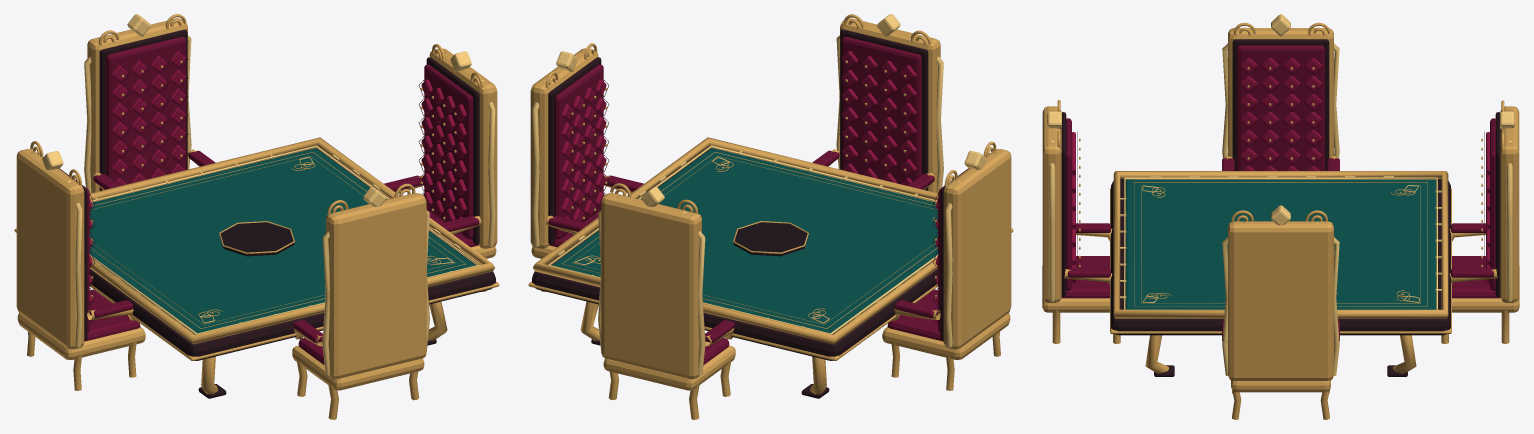
File: gala-table-chairs.glb
The picture shows the model from 3 angles, left to right: view 1: azimuth 30°, elevation 25°; view 2: azimuth 150°, elevation 25°; view 3: azimuth 270°, elevation 25°; orthographic projection. The views are drawn at different scales.
Parts seen in each view (by area): view 1: Gala_Table_Emerald_Felt, Gala_Chair_bottom_Antique_Gold, Gala_Chair_left_Antique_Gold, Gala_Table_Antique_Gold, Gala_Chair_top_Burgundy_Velvet, Gala_Table_Black_Walnut, Gala_Chair_right_Burgundy_Velvet, Gala_Chair_top_Crimson_Tuft, Gala_Chair_right_Antique_Gold, Gala_Chair_right_Crimson_Tuft, Gala_Chair_top_Antique_Gold, Gala_Table_Gold_Edge (+13 smaller); view 2: Gala_Table_Emerald_Felt, Gala_Chair_top_Antique_Gold, Gala_Chair_left_Antique_Gold, Gala_Table_Antique_Gold, Gala_Chair_bottom_Burgundy_Velvet, Gala_Table_Black_Walnut, Gala_Chair_right_Burgundy_Velvet, Gala_Chair_bottom_Crimson_Tuft, Gala_Chair_right_Antique_Gold, Gala_Chair_right_Crimson_Tuft, Gala_Chair_bottom_Antique_Gold, Gala_Table_Gold_Edge (+13 smaller); view 3: Gala_Table_Emerald_Felt, Gala_Chair_right_Antique_Gold, Gala_Table_Antique_Gold, Gala_Chair_left_Burgundy_Velvet, Gala_Table_Black_Walnut, Gala_Chair_bottom_Antique_Gold, Gala_Chair_top_Antique_Gold, Gala_Chair_left_Crimson_Tuft, Gala_Chair_bottom_Burgundy_Velvet, Gala_Chair_top_Burgundy_Velvet, Gala_Chair_left_Antique_Gold, Gala_Table_Gold_Edge (+11 smaller).
Boxes of the visible parts, x1,y1,x2,y2 form: Gala_Table_Emerald_Felt: (89, 148, 475, 334); Gala_Chair_bottom_Antique_Gold: (292, 183, 426, 419); Gala_Chair_left_Antique_Gold: (16, 141, 145, 390); Gala_Table_Antique_Gold: (14, 137, 499, 394); Gala_Chair_top_Burgundy_Velvet: (93, 36, 215, 189); Gala_Table_Black_Walnut: (89, 146, 495, 398); Gala_Chair_right_Burgundy_Velvet: (384, 64, 479, 247); Gala_Chair_top_Crimson_Tuft: (111, 51, 186, 185); Gala_Chair_right_Antique_Gold: (395, 44, 497, 291); Gala_Chair_right_Crimson_Tuft: (421, 79, 466, 233); Gala_Chair_top_Antique_Gold: (87, 14, 199, 192); Gala_Table_Gold_Edge: (90, 145, 479, 334); Gala_Table_Emerald_Felt: (552, 148, 938, 334); Gala_Chair_top_Antique_Gold: (601, 183, 735, 419); Gala_Chair_left_Antique_Gold: (882, 141, 1011, 390); Gala_Table_Antique_Gold: (528, 137, 1013, 394); Gala_Chair_bottom_Burgundy_Velvet: (812, 36, 934, 189); Gala_Table_Black_Walnut: (532, 146, 938, 398); Gala_Chair_right_Burgundy_Velvet: (548, 64, 643, 247); Gala_Chair_bottom_Crimson_Tuft: (841, 51, 916, 185); Gala_Chair_right_Antique_Gold: (530, 43, 632, 291); Gala_Chair_right_Crimson_Tuft: (561, 79, 606, 233); Gala_Chair_bottom_Antique_Gold: (828, 14, 940, 192); Gala_Table_Gold_Edge: (548, 145, 937, 334); Gala_Table_Emerald_Felt: (1125, 179, 1436, 309); Gala_Chair_right_Antique_Gold: (1227, 210, 1334, 419); Gala_Table_Antique_Gold: (1110, 171, 1451, 373); Gala_Chair_left_Burgundy_Velvet: (1222, 45, 1339, 170); Gala_Table_Black_Walnut: (1111, 179, 1450, 376); Gala_Chair_bottom_Antique_Gold: (1042, 100, 1120, 343); Gala_Chair_top_Antique_Gold: (1441, 100, 1519, 343); Gala_Chair_left_Crimson_Tuft: (1240, 57, 1321, 170); Gala_Chair_bottom_Burgundy_Velvet: (1061, 118, 1110, 298); Gala_Chair_top_Burgundy_Velvet: (1451, 118, 1500, 298); Gala_Chair_left_Antique_Gold: (1224, 22, 1337, 159); Gala_Table_Gold_Edge: (1120, 176, 1441, 309).
Bounding box in the file's own units: 5.53 × 2.74 × 5.53.
